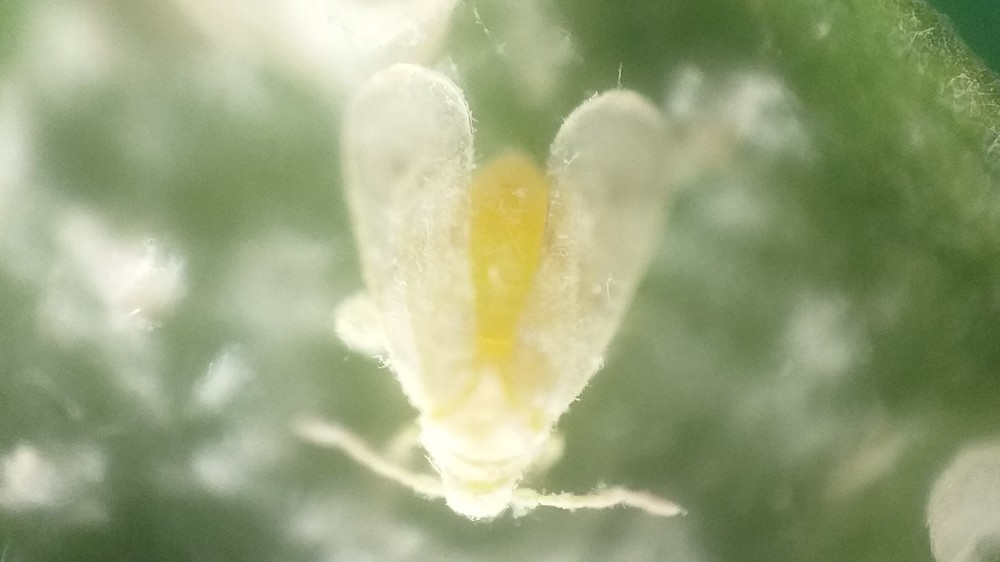Mosca Blanca: (283, 51, 701, 540)
